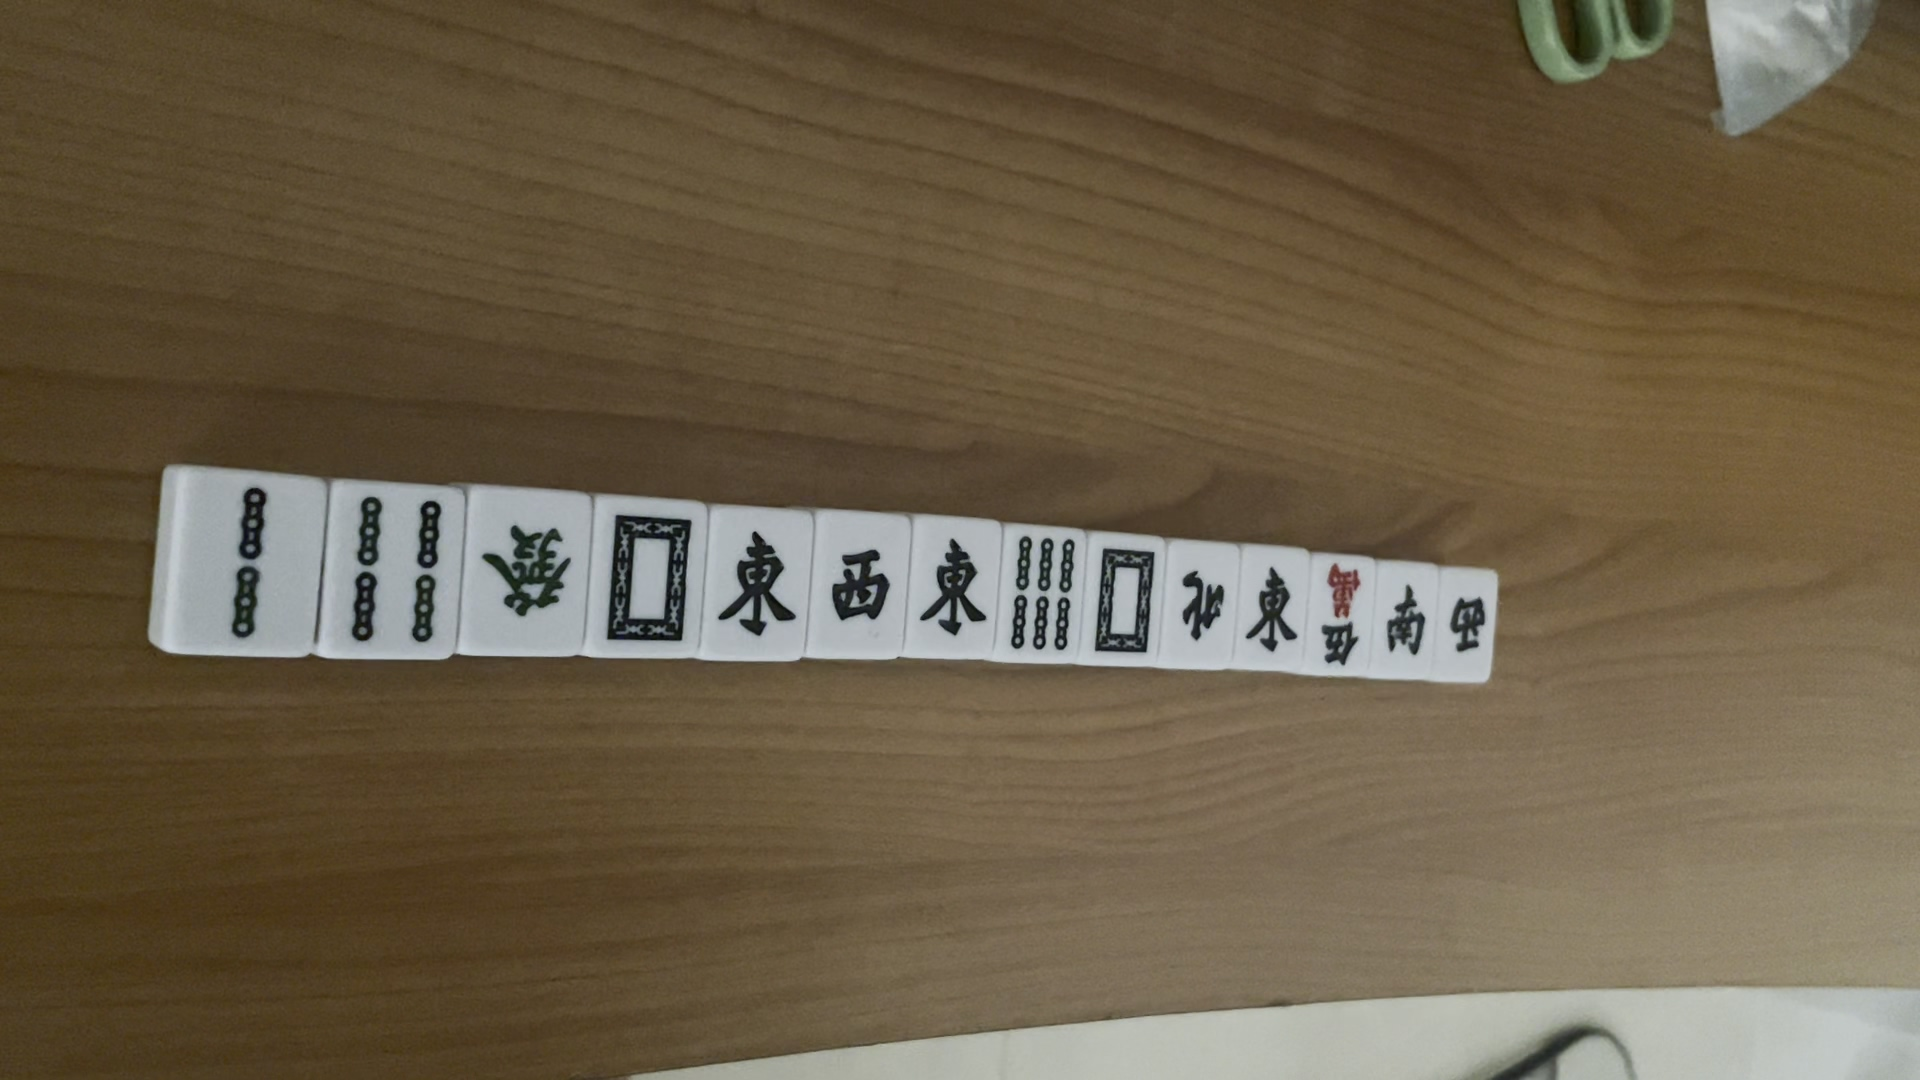b-2: (202, 480, 280, 644)
b-4: (332, 491, 454, 646)
b-6: (1006, 531, 1081, 654)
c-5: (1315, 559, 1361, 673)
honors-east: (715, 531, 793, 640), (918, 534, 990, 644), (1245, 563, 1299, 654)
honors-green: (473, 506, 578, 625)
honors-north: (1174, 562, 1232, 644)
honors-south: (1379, 580, 1425, 662)
honors-west: (825, 541, 893, 630), (1445, 593, 1491, 657)
honors-white: (603, 509, 694, 646), (1091, 535, 1160, 663)
